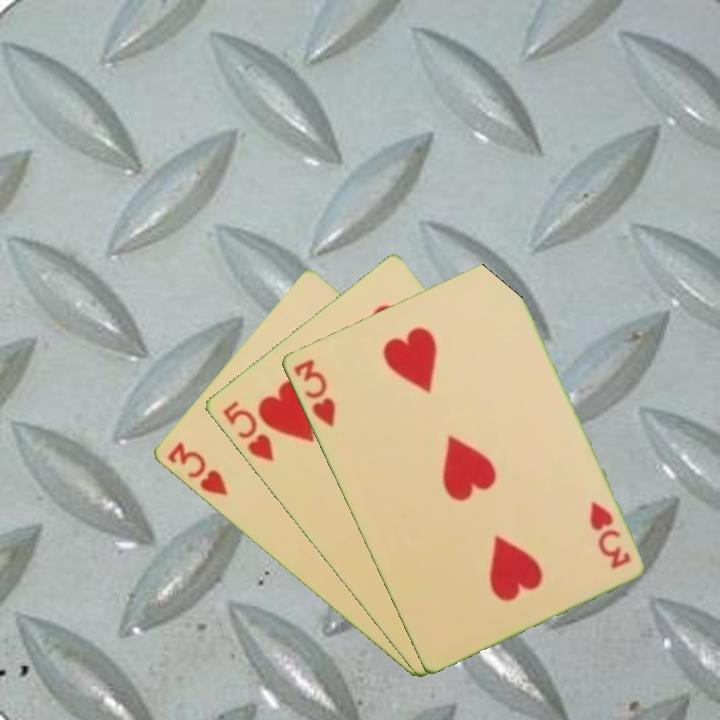3h: (163, 438, 230, 499), (290, 355, 338, 430), (585, 497, 633, 572)
5h: (218, 397, 276, 465)
